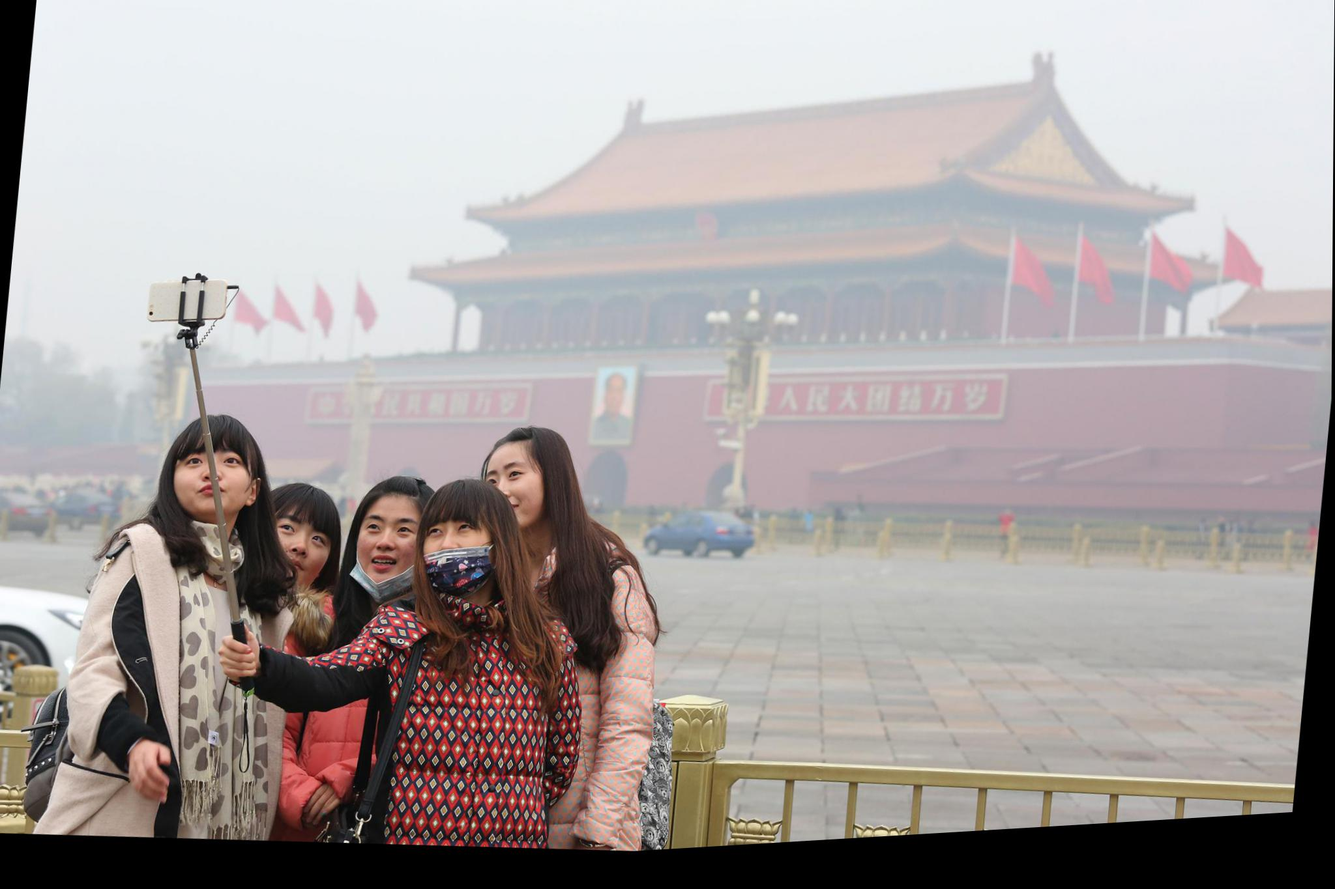NONE: (263, 509, 335, 596), (177, 444, 252, 523)
WRONG: (353, 512, 445, 607), (411, 515, 494, 601), (484, 462, 542, 536)
